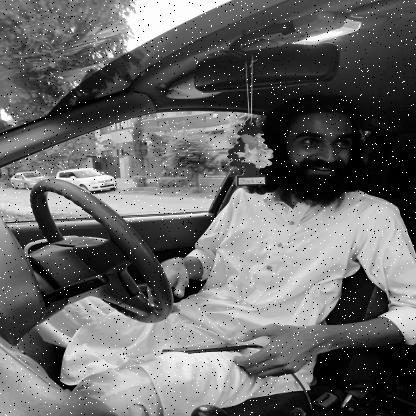no_seatbelt: (223, 96, 365, 329)
